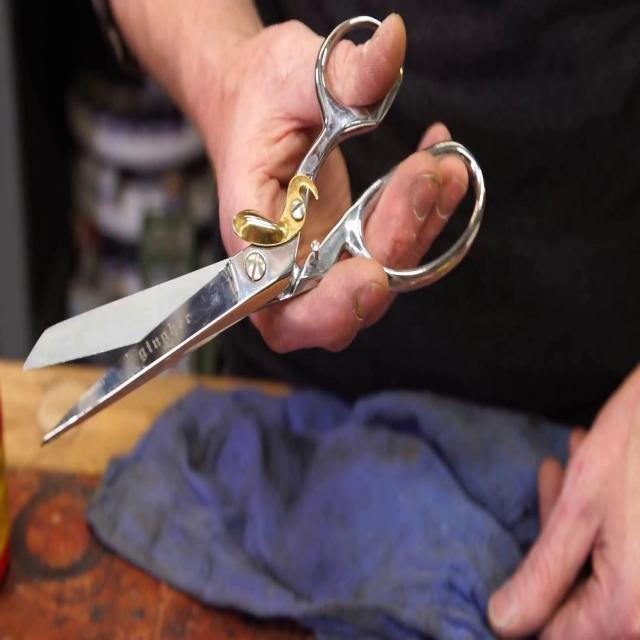scissor: (24, 16, 484, 448)
